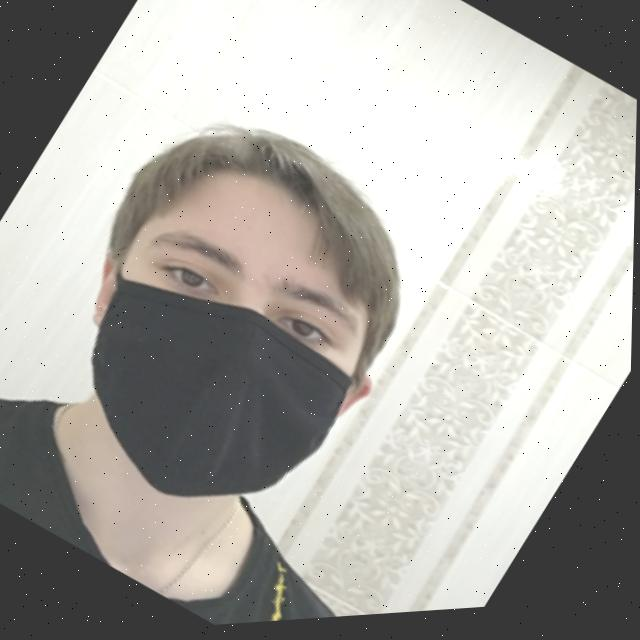Mask: (22, 224, 375, 548)
